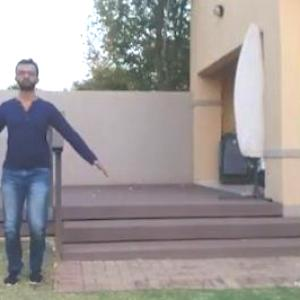land: (0, 58, 118, 293)
